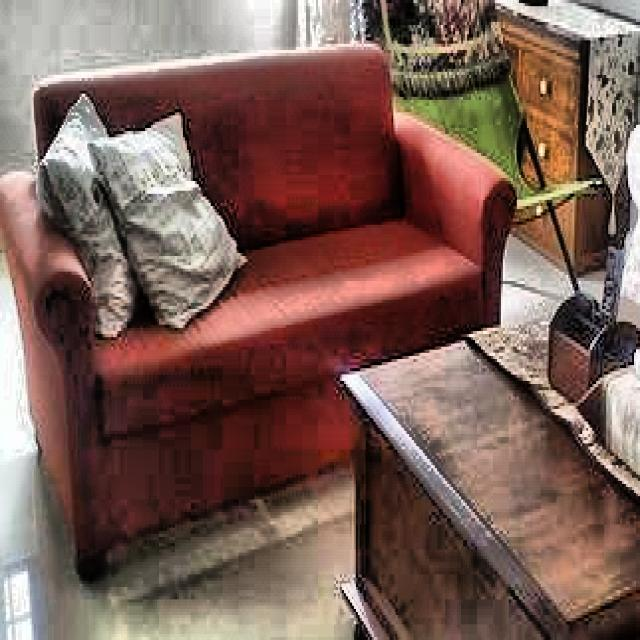sofa: (0, 47, 517, 587)
